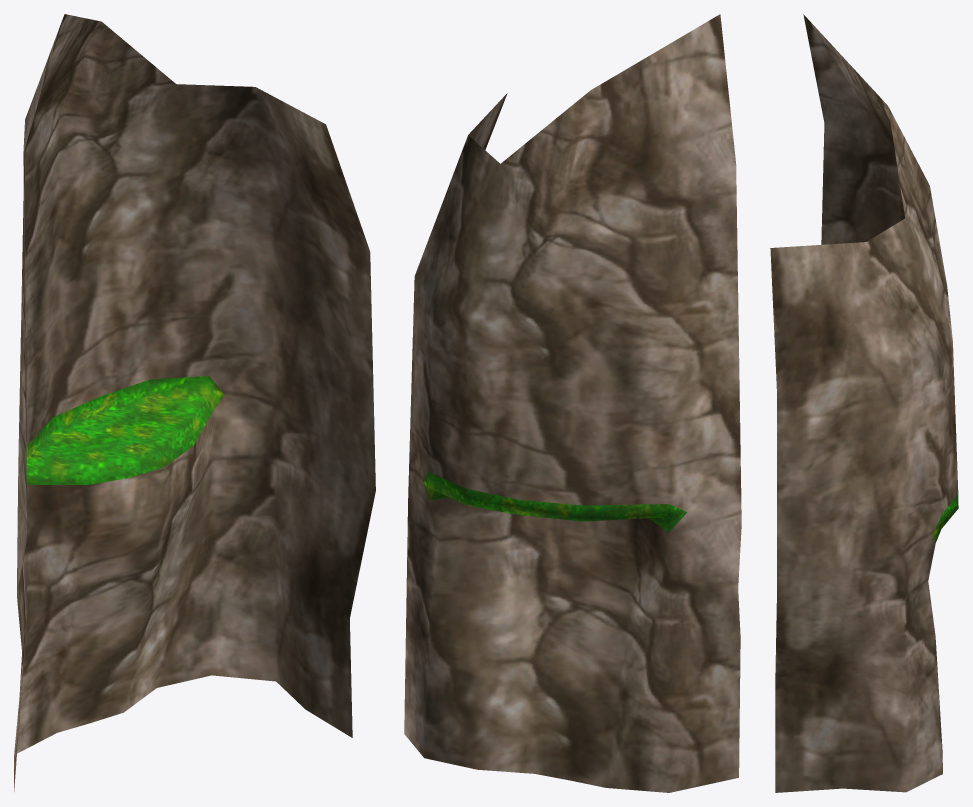
File: EKH_ENTRANCE_PS_EN_WALL_CHUNK_437__GX.fbx
The picture shows the model from 3 angles, left to right: view 1: azimuth 30°, elevation 25°; view 2: azimuth 150°, elevation 25°; view 3: azimuth 270°, elevation 25°; orthographic projection. The views are drawn at different scales.
Visible parts, largest first — view 1: EKH_ENTRANCE_PS_EN_WALL_CHUNK_437__GX; view 2: EKH_ENTRANCE_PS_EN_WALL_CHUNK_437__GX; view 3: EKH_ENTRANCE_PS_EN_WALL_CHUNK_437__GX.
Boxes of the visible parts, left/top/right/bottom form: EKH_ENTRANCE_PS_EN_WALL_CHUNK_437__GX: left=14, top=14, right=375, bottom=791; EKH_ENTRANCE_PS_EN_WALL_CHUNK_437__GX: left=404, top=14, right=741, bottom=792; EKH_ENTRANCE_PS_EN_WALL_CHUNK_437__GX: left=770, top=14, right=958, bottom=792.
Size of the model in its own units: 66003 by 148989 by 37998.
Materials: 2 (2 with a texture image).
